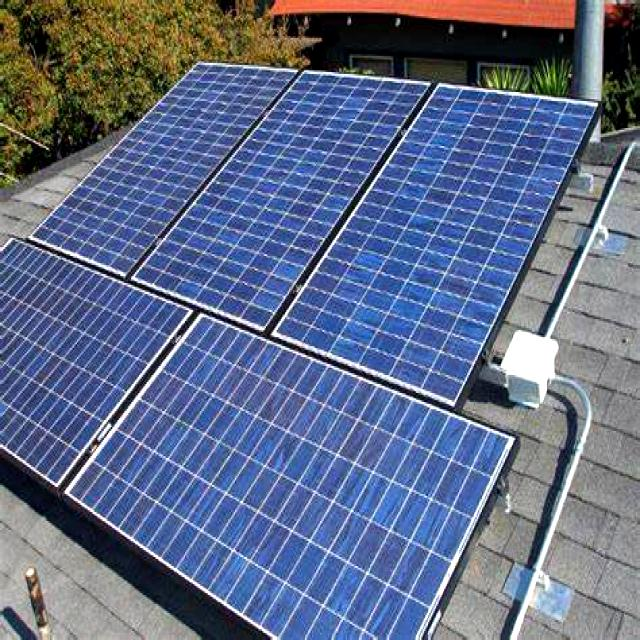crack: (316, 102, 600, 400), (144, 350, 403, 596), (0, 261, 96, 447), (236, 144, 316, 258), (140, 113, 204, 202)
